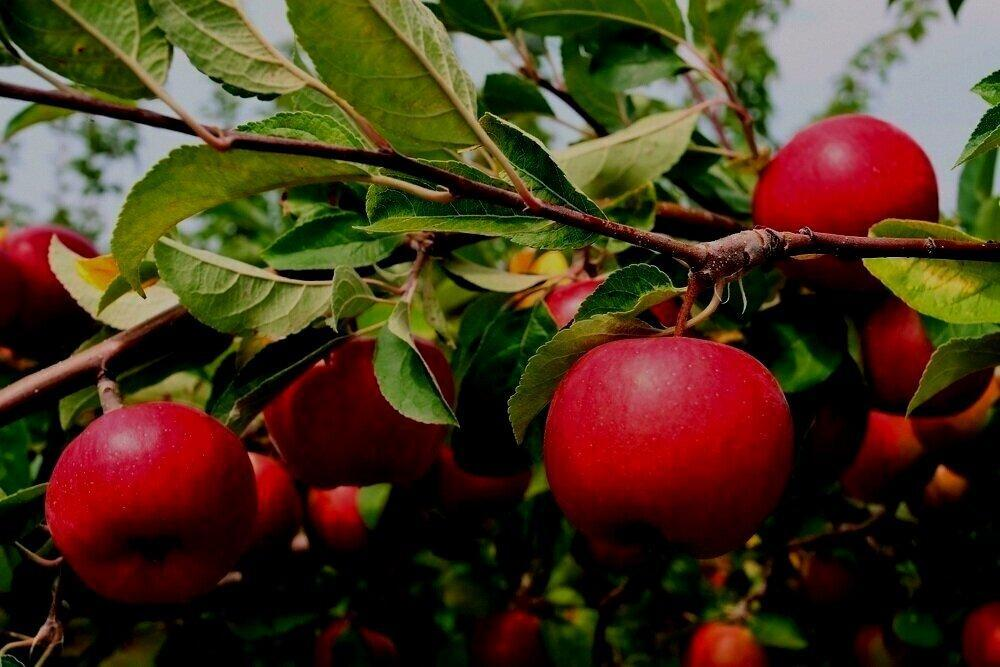apple: (538, 335, 796, 554), (43, 399, 256, 600), (261, 330, 450, 488), (750, 114, 940, 238)
